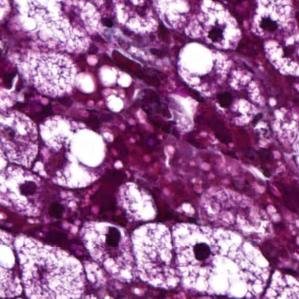ballooning: (171, 218, 275, 299), (30, 113, 111, 187), (11, 230, 86, 299), (78, 221, 139, 284)
